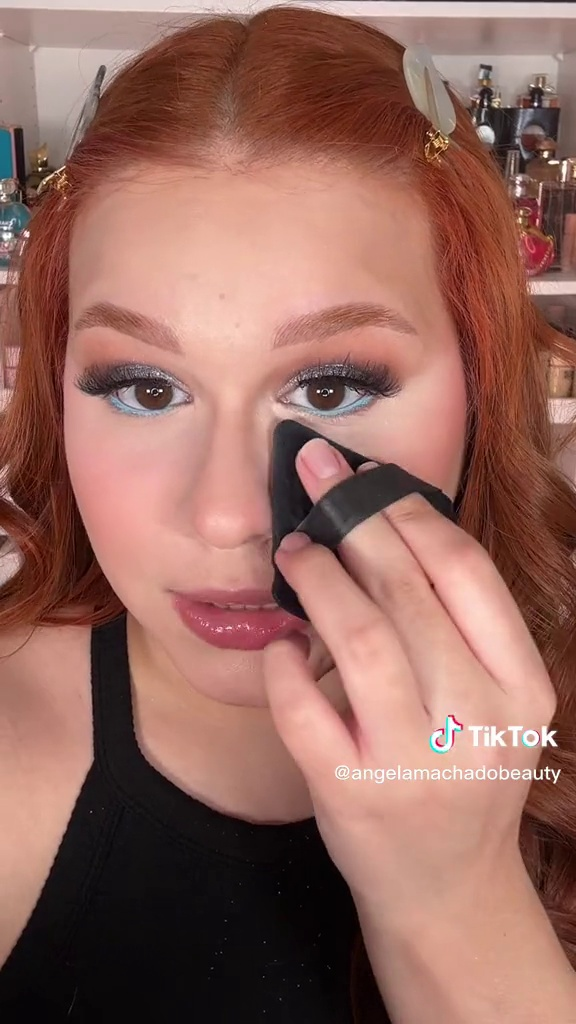train' :'yolo_data/train/images',: (258, 406, 464, 630)
